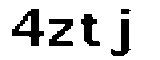4: (8, 5, 45, 48)
j: (107, 5, 135, 60)
t: (79, 11, 104, 53)
z: (47, 15, 76, 49)
